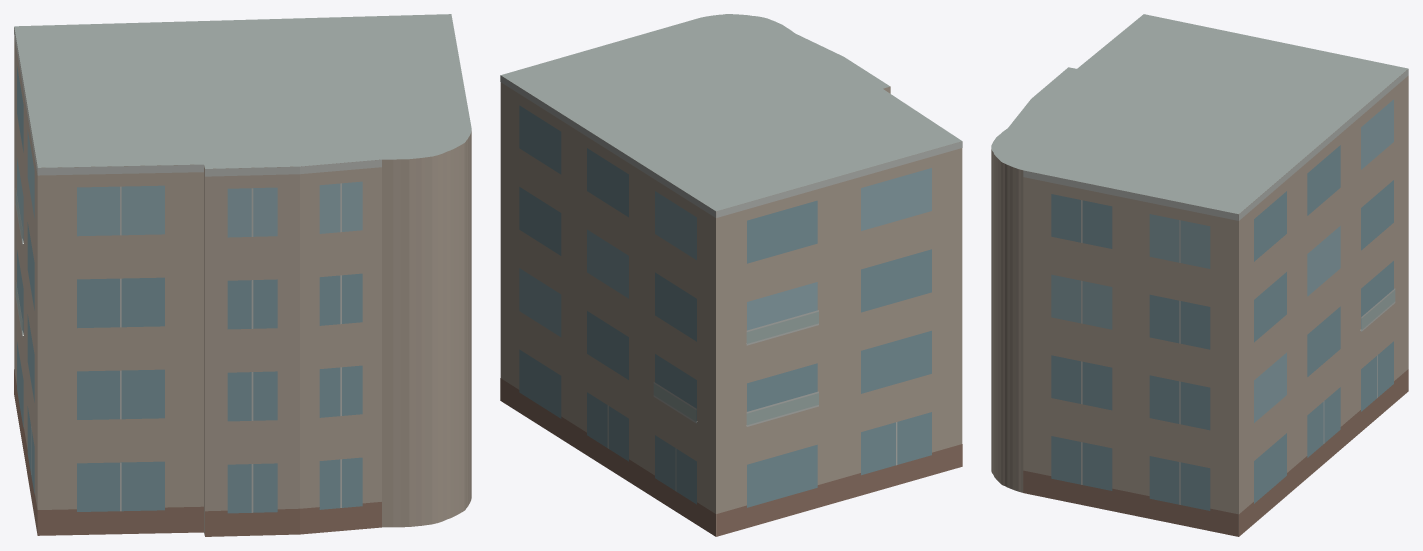
The model's file is survey-upis-32534317.glb.
3 views of the same model, side by side, from view 1: azimuth 30°, elevation 25°; view 2: azimuth 150°, elevation 25°; view 3: azimuth 270°, elevation 25° (orthographic). The views are drawn at different scales.
Visible parts, largest first — view 1: survey-upis-32534317.tmp; view 2: survey-upis-32534317.tmp; view 3: survey-upis-32534317.tmp.
Boxes of the visible parts, <box> form: survey-upis-32534317.tmp: <box>14,14,471,536</box>; survey-upis-32534317.tmp: <box>500,14,962,536</box>; survey-upis-32534317.tmp: <box>991,14,1408,536</box>.
Bounding box in the file's own units: 15.58 × 11.7 × 13.72.
